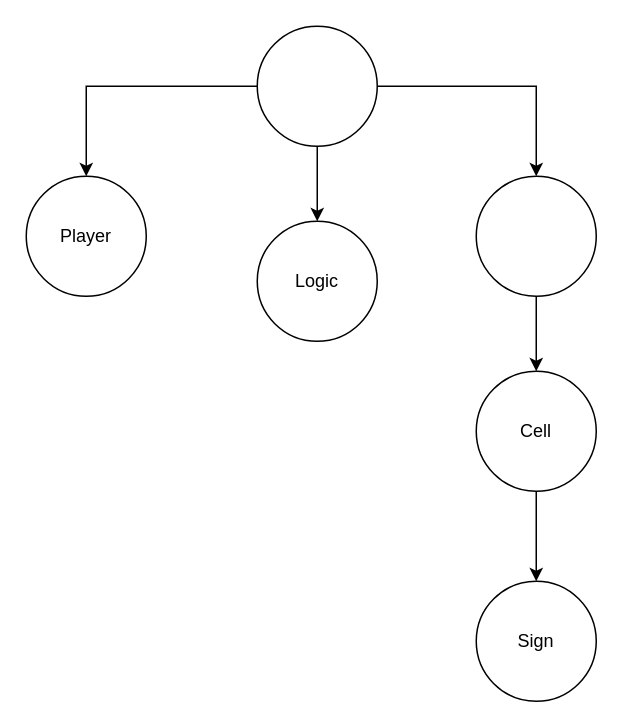
Image size: 623x728. Some labels were removed from this diagram. The shapes that lost their labels are listed below. From the top down, each one's centre as x and y in pixels, then its label:
At point (316, 85): "Game".
At point (535, 235): "Field".
